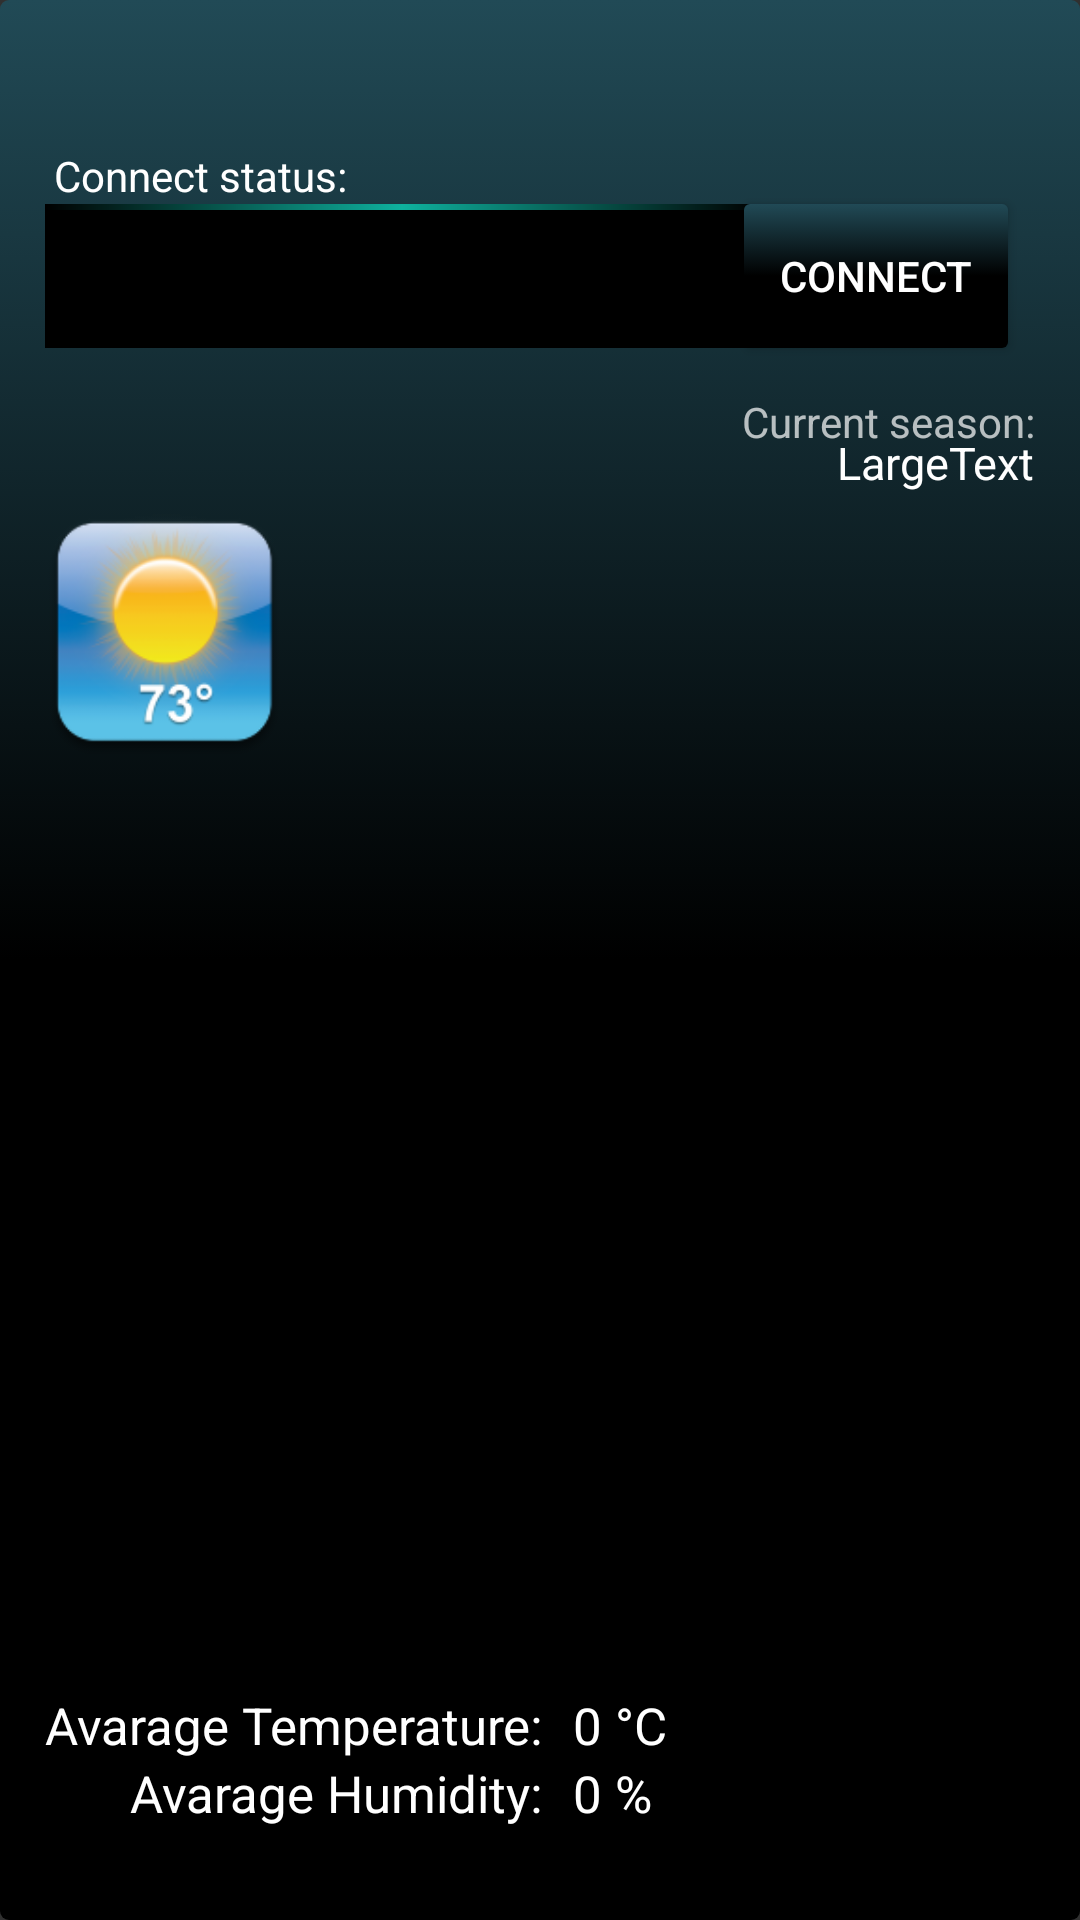

Locate icon controls on the screen. Image size 1080 x 1920, boxes as (x1, y1, x2, y2).
weather: (57, 518, 273, 742)
